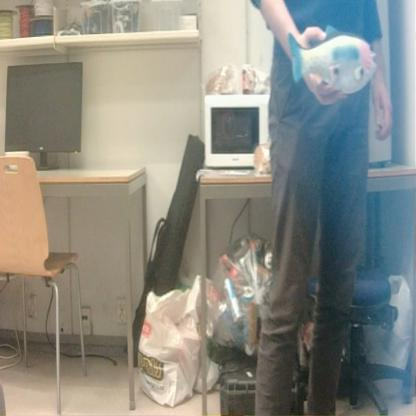rubberfish: (282, 17, 380, 99)
